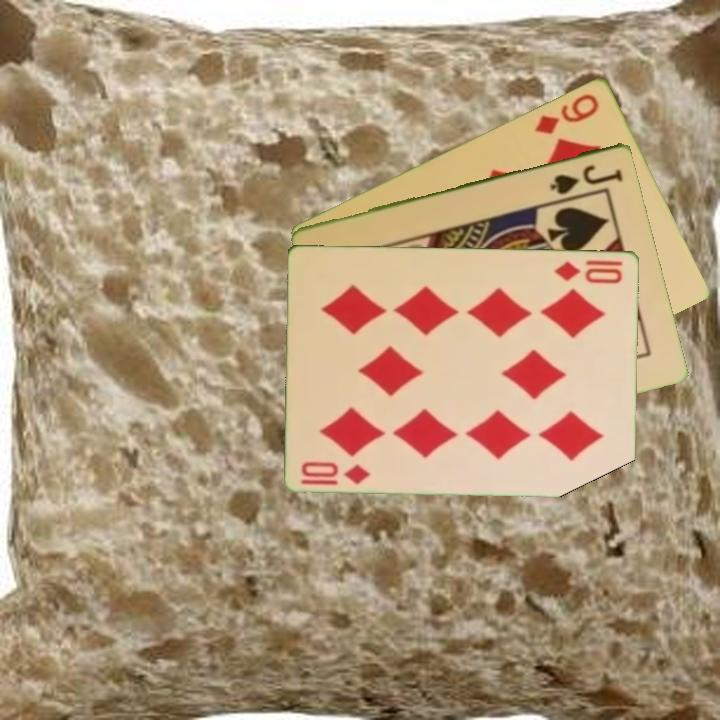10d: (551, 257, 626, 286), (298, 458, 373, 487)
9d: (530, 89, 602, 138)
Js: (547, 160, 625, 197)
